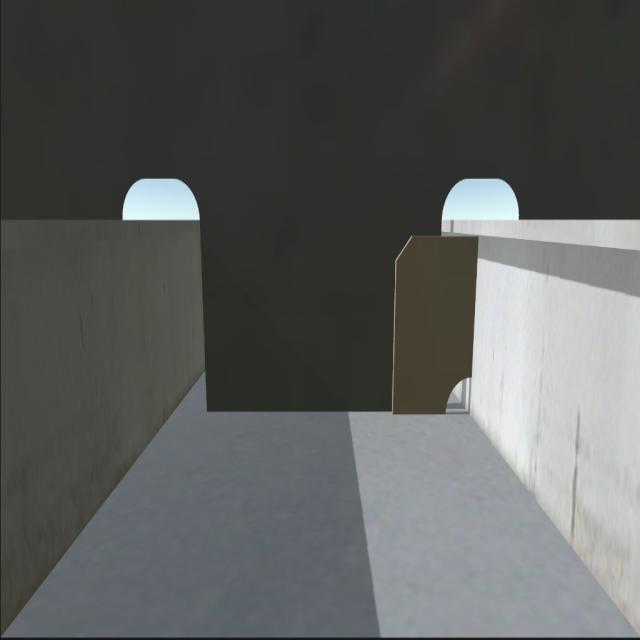fillet_hole: (445, 379, 473, 413)
fillet_yong_jeop_jang: (204, 398, 443, 423)
longi_yong_jeop_jang: (467, 221, 481, 380)
plate_CP03: (392, 229, 473, 413)
